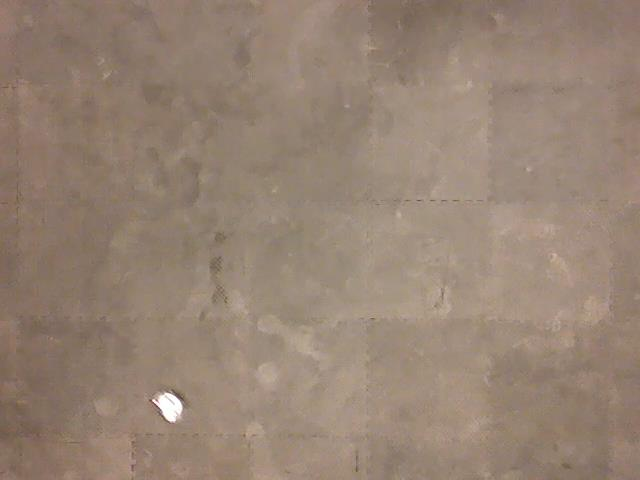Agent: (149, 388, 185, 425)
